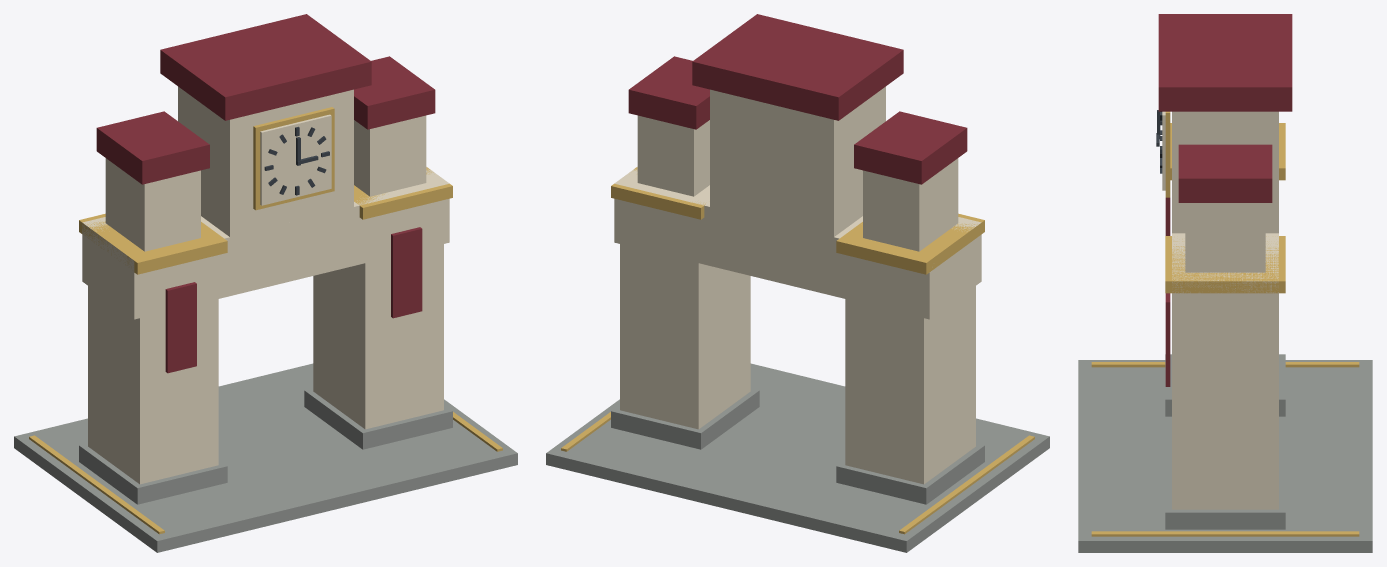
File: crownford_clock_gate.glb
3 views of the same model, side by side, from view 1: azimuth 30°, elevation 25°; view 2: azimuth 150°, elevation 25°; view 3: azimuth 270°, elevation 25° (orthographic). The views are drawn at different scales.
Visible parts, largest first — view 1: crownford_clock_gate; view 2: crownford_clock_gate; view 3: crownford_clock_gate.
Boxes of the visible parts, x1,y1,x2,y2 form: crownford_clock_gate: [14, 14, 517, 552]; crownford_clock_gate: [546, 14, 1049, 552]; crownford_clock_gate: [1078, 14, 1372, 552].
Size of the model in its own units: 32 by 34 by 22.
